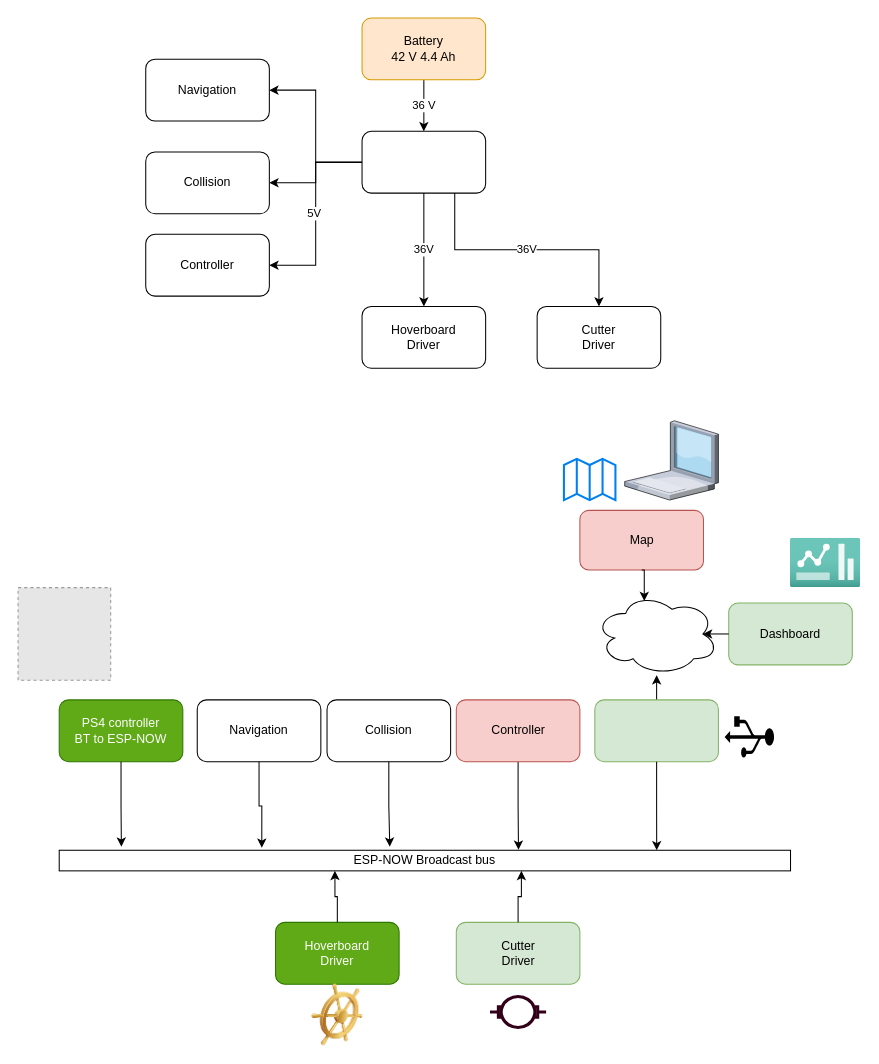
The diagram is 879 pixels wide and 1064 high, and some of its shapes have lost their labels. Grey dashed boxes stand in for pictures. The centre of each missing label's shape, as x and y in pixels:
"ESP-NOW to ZENOH" belongs at (656,730).
"Power Switch" belongs at (423,161).
"Zenoh Redis MQTT" belongs at (656,633).
